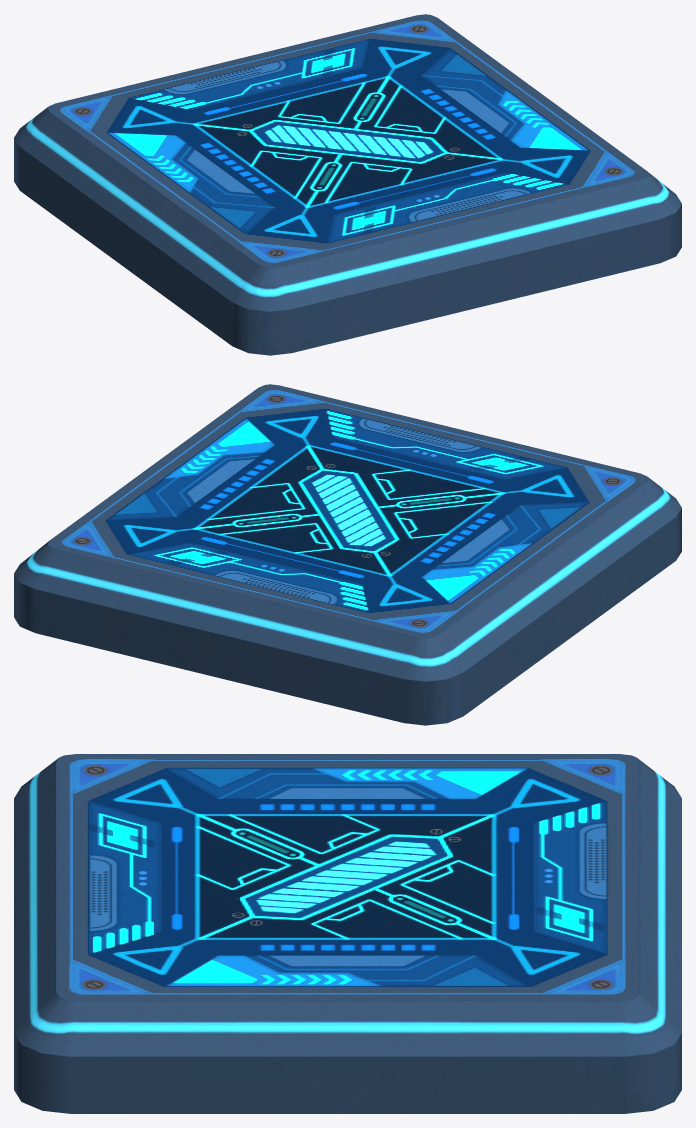
Rendered from ARC1110057.fbx.
3 renders of one model, top to bottom at view 1: azimuth 30°, elevation 25°; view 2: azimuth 150°, elevation 25°; view 3: azimuth 270°, elevation 25°, orthographic. The views are drawn at different scales.
Parts seen in each view (by area): view 1: smARC1110057; view 2: smARC1110057; view 3: smARC1110057.
Boxes of the visible parts, left/top/right/bottom form: smARC1110057: left=14, top=14, right=681, bottom=355; smARC1110057: left=14, top=384, right=681, bottom=725; smARC1110057: left=14, top=754, right=681, bottom=1113.
Bounding box in the file's own units: 198 × 31.27 × 198.
1 material, 1 textured.
